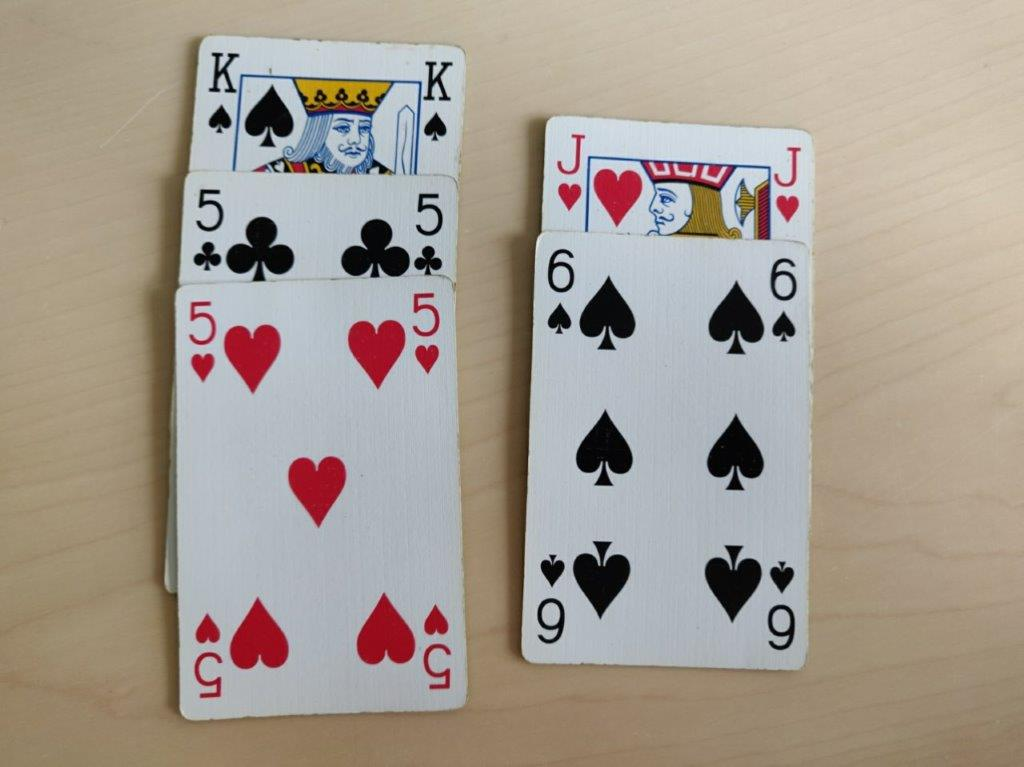5C: (411, 186, 446, 279), (193, 184, 227, 273)
5H: (184, 295, 221, 387), (408, 288, 446, 376)
6S: (764, 253, 802, 350), (544, 242, 581, 336)
JH: (551, 131, 588, 213), (769, 144, 805, 225)
KS: (418, 57, 458, 145), (205, 43, 243, 135)
